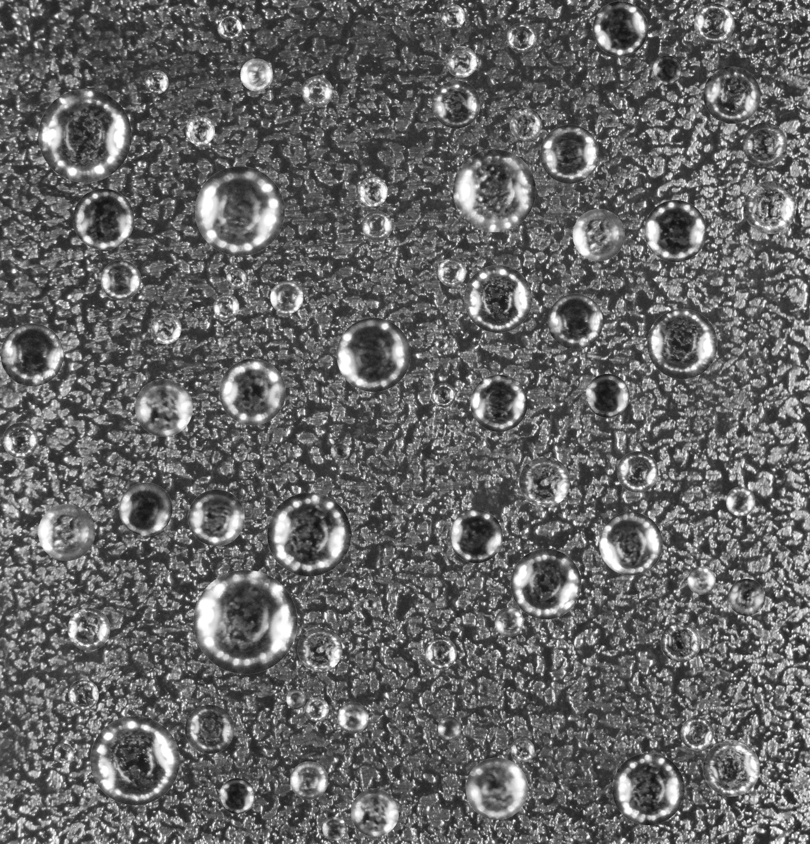Bubble: (193, 570, 297, 674), (38, 89, 131, 182), (195, 166, 284, 255), (90, 716, 179, 805), (267, 492, 351, 576), (453, 149, 535, 232), (336, 317, 410, 391), (612, 753, 684, 825), (510, 548, 581, 619), (647, 308, 717, 379), (464, 265, 532, 332), (219, 358, 285, 425), (599, 512, 662, 575), (0, 323, 63, 386), (644, 200, 706, 262), (465, 757, 527, 819), (72, 188, 134, 249), (540, 124, 599, 183), (135, 379, 192, 436), (703, 66, 760, 123), (470, 374, 527, 431), (188, 489, 244, 546), (38, 504, 94, 560), (703, 740, 759, 796), (547, 293, 603, 349), (592, 1, 647, 56), (449, 509, 502, 563), (119, 482, 172, 535), (743, 181, 796, 233), (572, 209, 624, 261), (519, 456, 570, 507), (185, 704, 234, 753), (432, 80, 480, 128), (350, 788, 398, 836), (297, 627, 342, 671), (585, 373, 629, 417), (743, 122, 787, 166), (67, 608, 110, 650), (617, 451, 658, 492), (660, 622, 701, 662), (694, 3, 734, 43), (100, 260, 140, 300), (290, 761, 328, 799), (728, 578, 765, 615), (219, 778, 255, 814), (2, 422, 37, 457), (270, 280, 303, 313), (680, 717, 713, 750), (240, 58, 272, 91), (509, 108, 542, 140), (424, 637, 456, 669), (445, 46, 477, 77), (150, 312, 181, 344), (301, 76, 332, 107), (337, 702, 368, 733), (68, 679, 98, 710), (362, 211, 392, 241), (357, 176, 387, 206), (506, 22, 536, 52), (185, 115, 214, 145), (726, 486, 755, 516), (652, 55, 682, 84), (494, 607, 523, 636), (437, 258, 466, 286), (687, 566, 715, 594), (213, 294, 239, 319), (217, 14, 242, 39), (440, 4, 465, 28), (322, 816, 346, 841), (304, 697, 328, 721), (510, 738, 534, 762), (431, 383, 455, 407), (144, 70, 168, 93), (437, 717, 461, 740), (53, 743, 73, 763), (226, 268, 246, 288), (330, 441, 350, 460), (286, 689, 305, 709), (435, 338, 448, 351), (364, 598, 376, 610)
